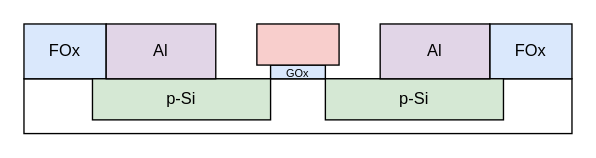
Image size: 596x158. Some labels were removed from this diagram. The shapes that lost their labels are listed below. From the top down, each one's box as (x1, y1, x2, y2) in pixels, then its label:
(256, 23, 339, 65): Poly
(23, 77, 572, 134): n-Si
